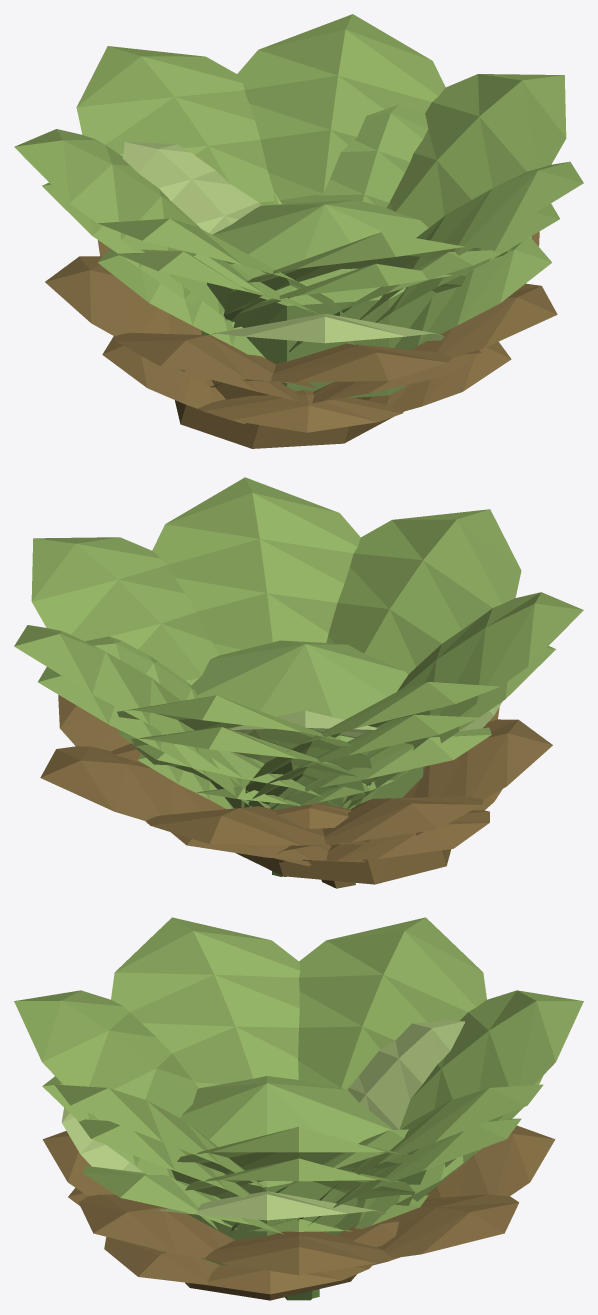
Rendered from spring_lettuce.glb.
3 renders of one model, top to bottom at view 1: azimuth 30°, elevation 25°; view 2: azimuth 150°, elevation 25°; view 3: azimuth 270°, elevation 25°, orthographic.
Visible parts, largest first — view 1: stage3, dead, stage2; view 2: stage3, dead, stage2, stage1; view 3: stage3, dead, stage2, stage1.
Boxes of the visible parts, x1,y1,x2,y2 form: stage3: [14, 14, 583, 397]; dead: [45, 231, 557, 448]; stage2: [42, 183, 559, 328]; stage3: [14, 477, 583, 876]; dead: [40, 695, 552, 888]; stage2: [38, 646, 555, 808]; stage1: [137, 753, 409, 809]; stage3: [14, 917, 583, 1300]; dead: [42, 1125, 555, 1300]; stage2: [54, 1075, 543, 1225]; stage1: [207, 1195, 428, 1231].
Size of the model in its own units: 0.6083 by 0.326 by 0.624.
